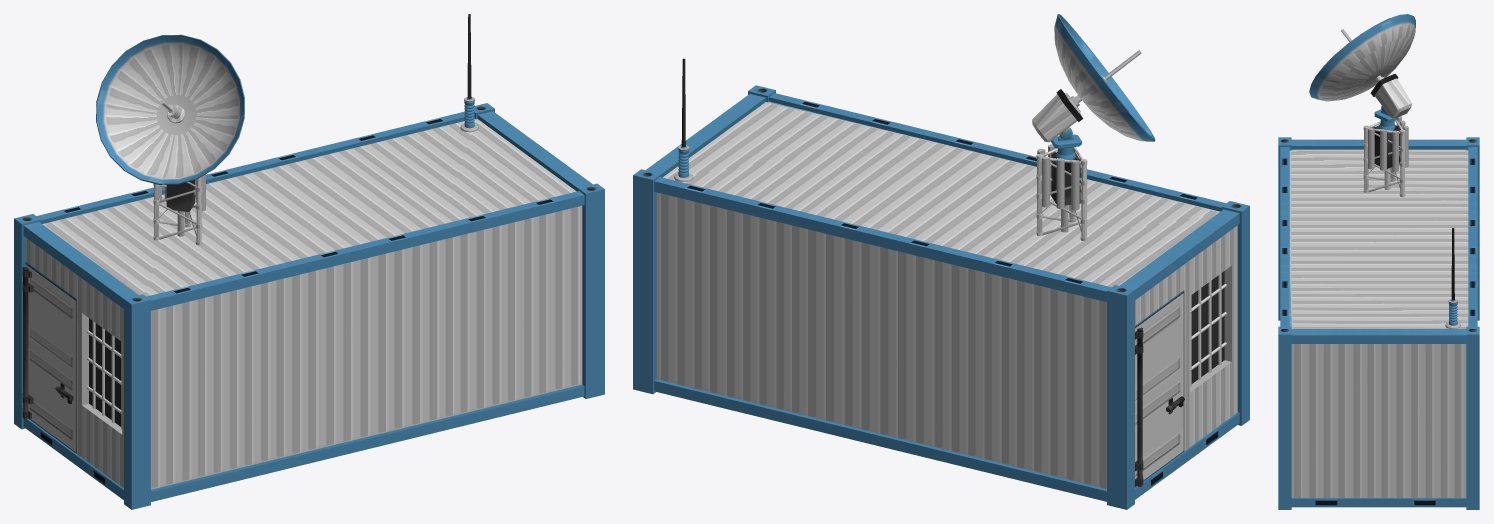
Rendered from PlankHouse.fbx.
3 views of the same model, side by side, from view 1: azimuth 30°, elevation 25°; view 2: azimuth 150°, elevation 25°; view 3: azimuth 270°, elevation 25° (orthographic). The views are drawn at different scales.
Parts seen in each view (by area): view 1: polySurface185; view 2: polySurface185; view 3: polySurface185.
Part boxes in pixels (box(x1,y1,x2,y2)): polySurface185: box(14, 14, 604, 509); polySurface185: box(633, 14, 1249, 509); polySurface185: box(1278, 14, 1479, 509).
Bounding box in the file's own units: 6.19 × 4.96 × 2.65.
